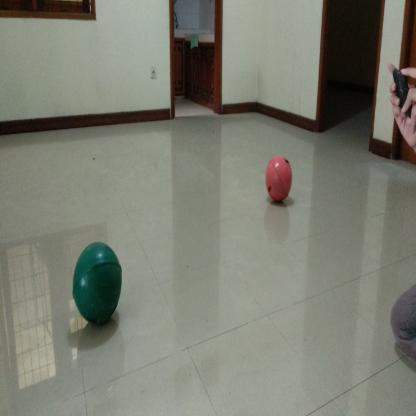green_buoy: (70, 240, 124, 329)
red_buoy: (265, 152, 293, 209)
